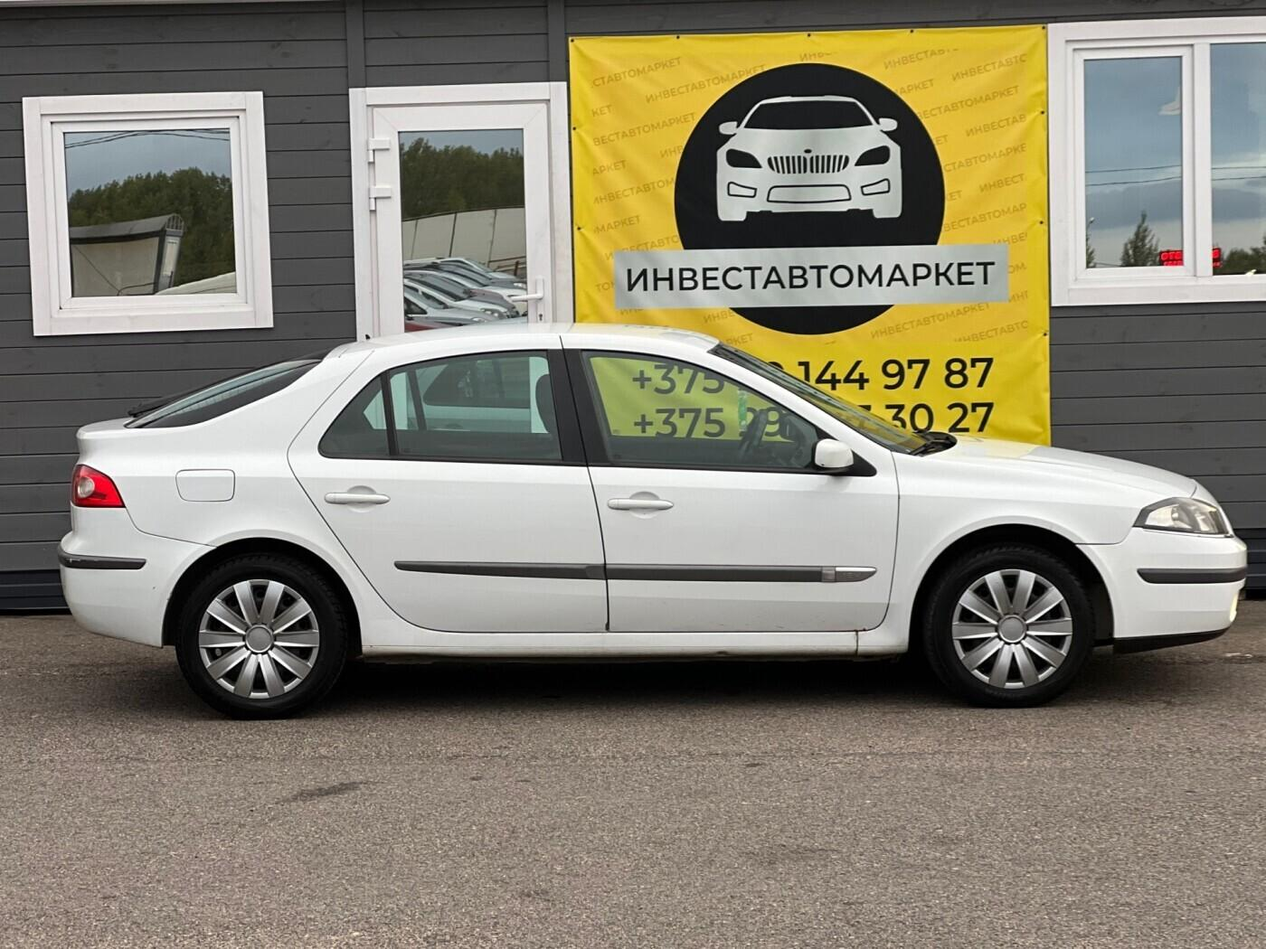Laguna_2005-2007: (53, 320, 1250, 713)
